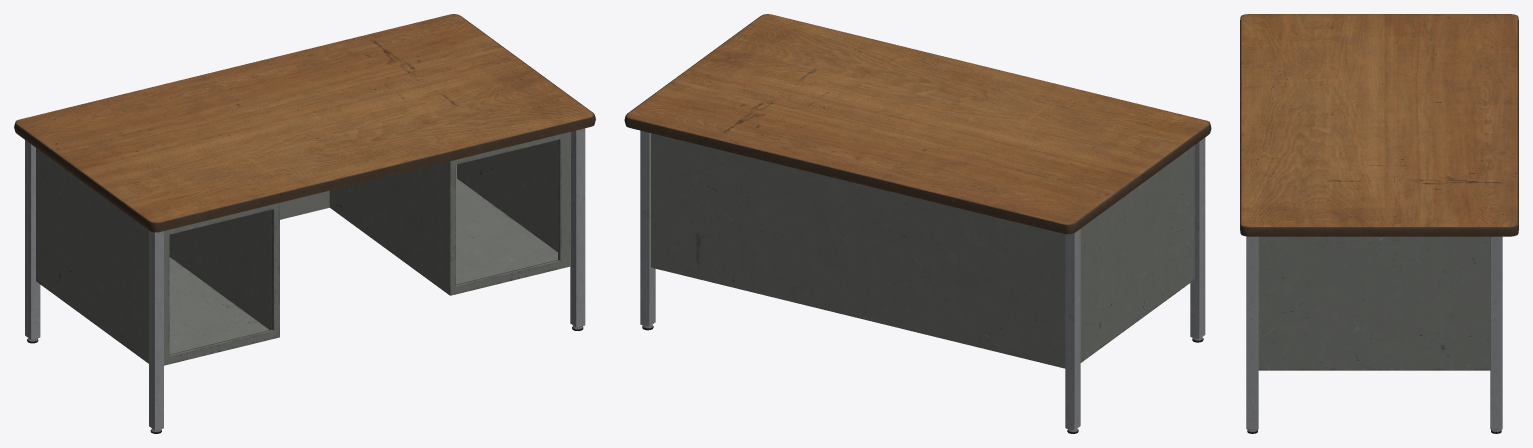
File: SM_Teachers_Desk_02a.fbx
3 views of the same model, side by side, from view 1: azimuth 30°, elevation 25°; view 2: azimuth 150°, elevation 25°; view 3: azimuth 270°, elevation 25° (orthographic). The views are drawn at different scales.
Visible parts, largest first — view 1: SM_Teachers_Desk_02a_LOD0; view 2: SM_Teachers_Desk_02a_LOD0; view 3: SM_Teachers_Desk_02a_LOD0.
Boxes of the visible parts, left/top/right/bottom form: SM_Teachers_Desk_02a_LOD0: left=14, top=14, right=595, bottom=433; SM_Teachers_Desk_02a_LOD0: left=624, top=14, right=1211, bottom=433; SM_Teachers_Desk_02a_LOD0: left=1240, top=14, right=1518, bottom=433.
Size of the model in its own units: 220 by 121 by 101.
Materials: 1 (1 with a texture image).
